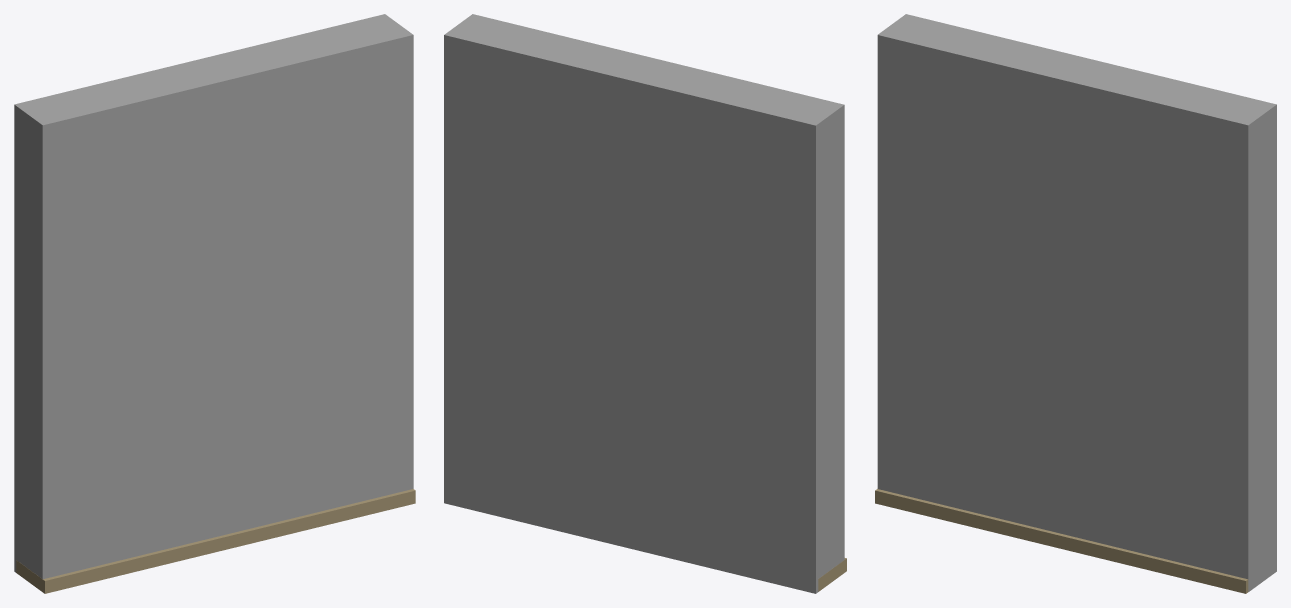
Rendered from SM_Wall1.fbx.
3 views of the same model, side by side, from view 1: azimuth 30°, elevation 25°; view 2: azimuth 150°, elevation 25°; view 3: azimuth 330°, elevation 25° (orthographic).
Visible parts, largest first — view 1: SM_WallPlint1; view 2: SM_WallPlint1; view 3: SM_WallPlint1.
Part boxes in pixels (x1,y1,x2,y2): SM_WallPlint1: (14,14,415,593); SM_WallPlint1: (444,14,846,593); SM_WallPlint1: (875,14,1276,593).
Bounding box in the file's own units: 300 × 361 × 43.18.
